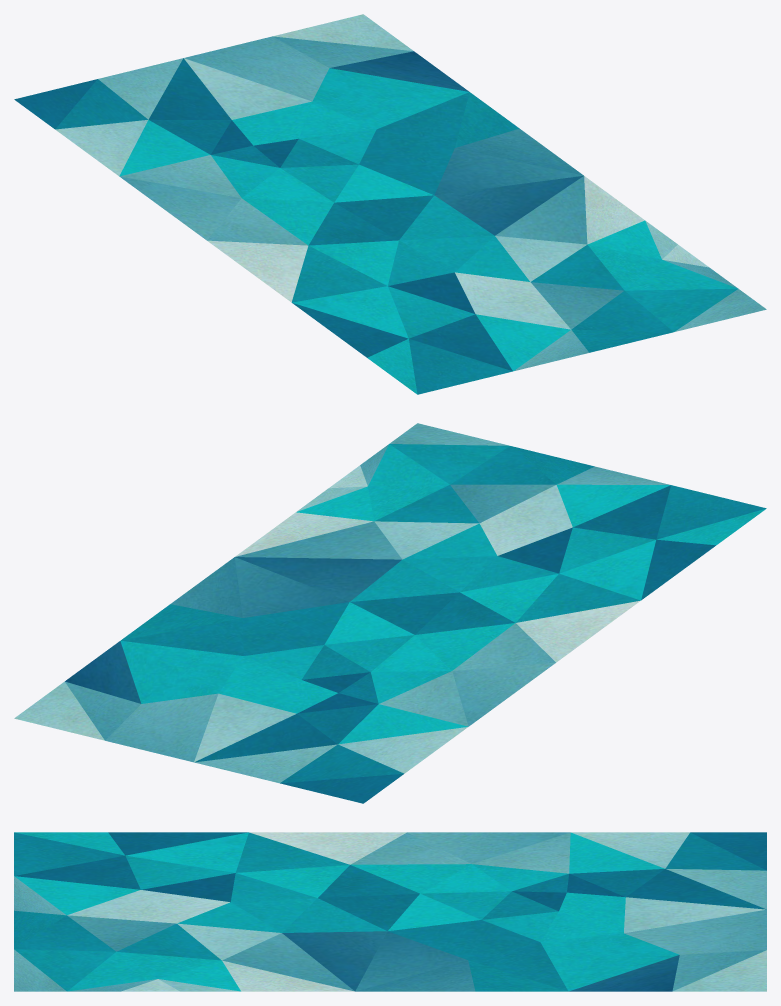
Rendered from Water-part-02.fbx.
3 renders of one model, top to bottom at view 1: azimuth 30°, elevation 25°; view 2: azimuth 150°, elevation 25°; view 3: azimuth 270°, elevation 25°, orthographic. The views are drawn at different scales.
Parts seen in each view (by area): view 1: Water-part-02; view 2: Water-part-02; view 3: Water-part-02.
Boxes of the visible parts, bbox=[...] form: Water-part-02: bbox=[14, 14, 766, 394]; Water-part-02: bbox=[14, 423, 766, 803]; Water-part-02: bbox=[14, 832, 766, 991].
Size of the model in its own units: 3 by 0 by 6.
